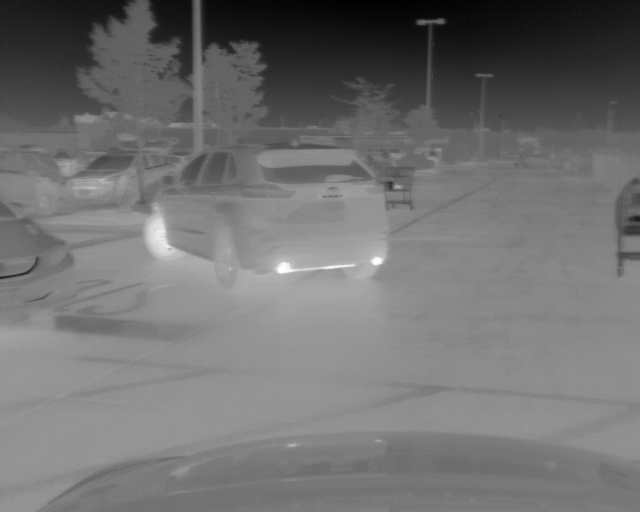car: (140, 144, 392, 292), (1, 209, 78, 312), (71, 149, 182, 205), (2, 148, 67, 217)
